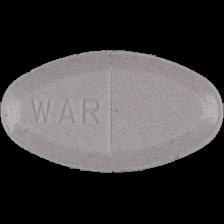54868-4422: (0, 0, 224, 224)
